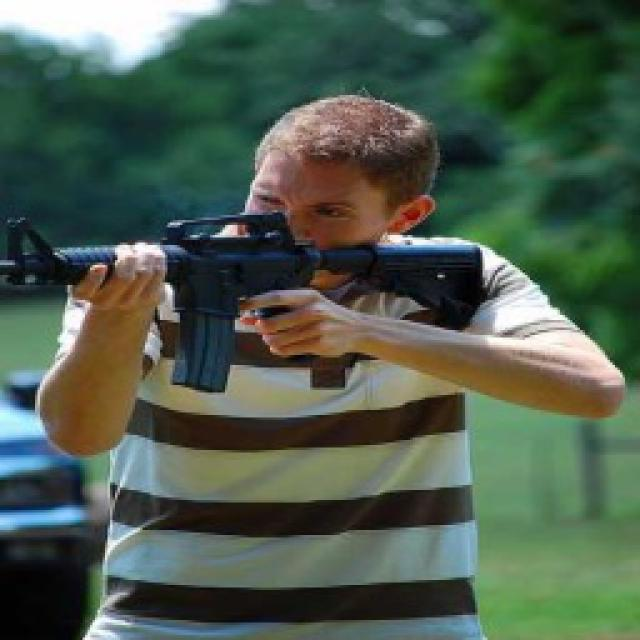long weapon: (4, 190, 492, 367)
